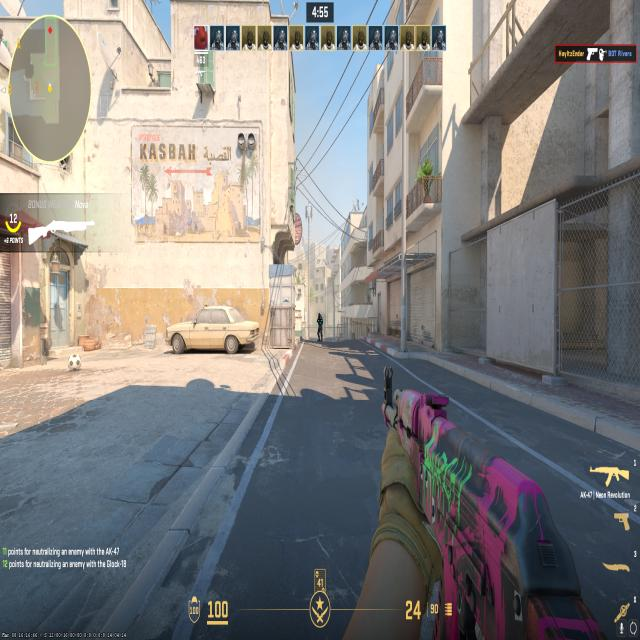ct: (314, 308, 324, 342)
